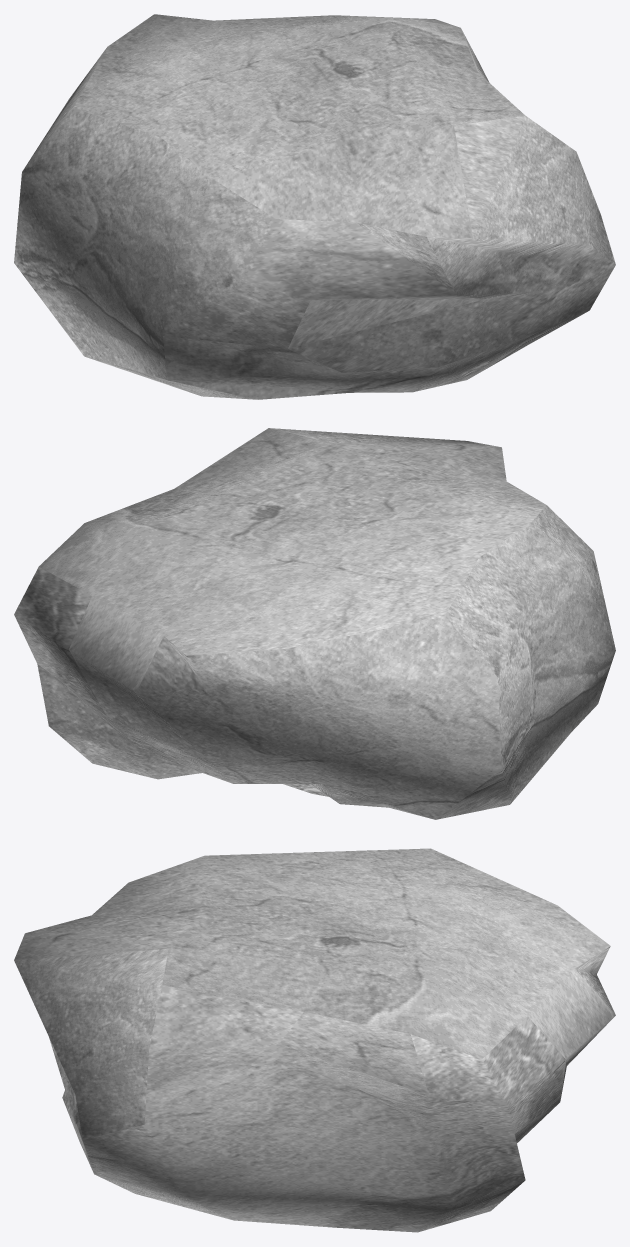
The model's file is RGY.fbx.
3 views of the same model, one above another, from view 1: azimuth 30°, elevation 25°; view 2: azimuth 150°, elevation 25°; view 3: azimuth 270°, elevation 25° (orthographic).
Visible parts, largest first — view 1: Cube.001; view 2: Cube.001; view 3: Cube.001.
Boxes of the visible parts, x1,y1,x2,y2 form: Cube.001: [14, 14, 615, 399]; Cube.001: [14, 428, 615, 819]; Cube.001: [14, 848, 615, 1232].
Bounding box in the file's own units: 3.18 × 1.68 × 3.63.
Materials: 1 (1 with a texture image).
